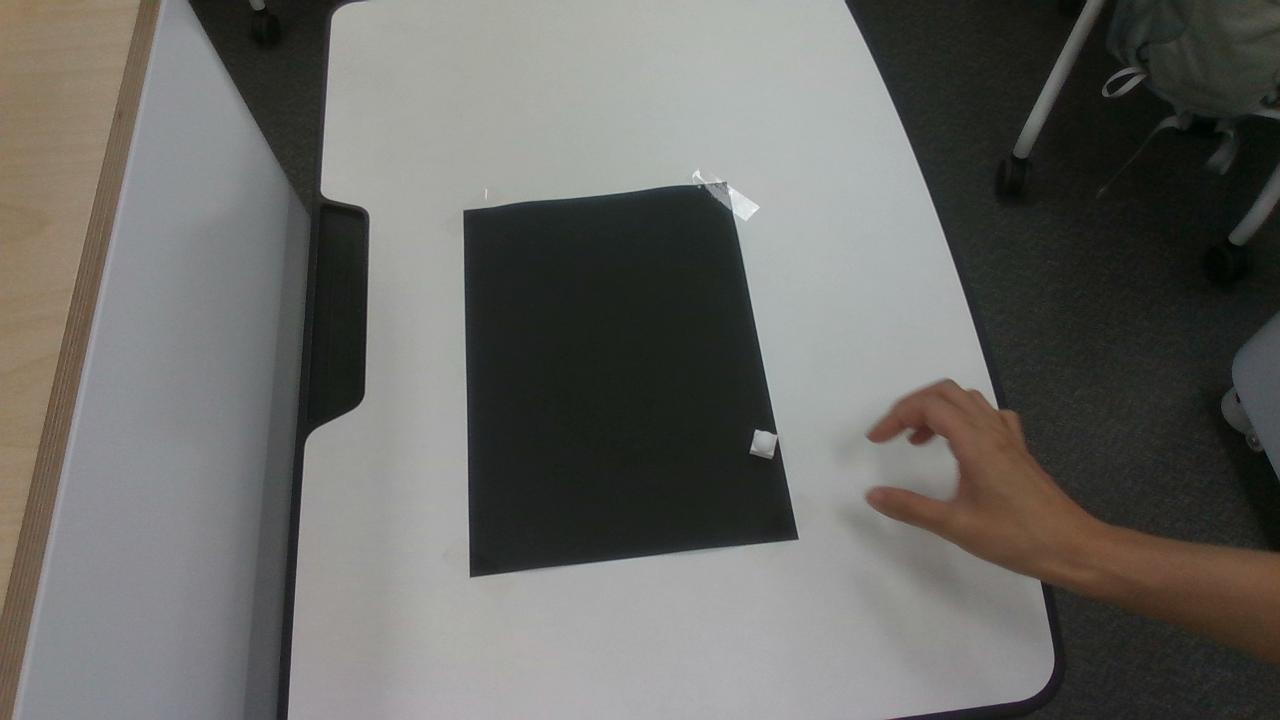cube: (750, 430, 776, 458)
